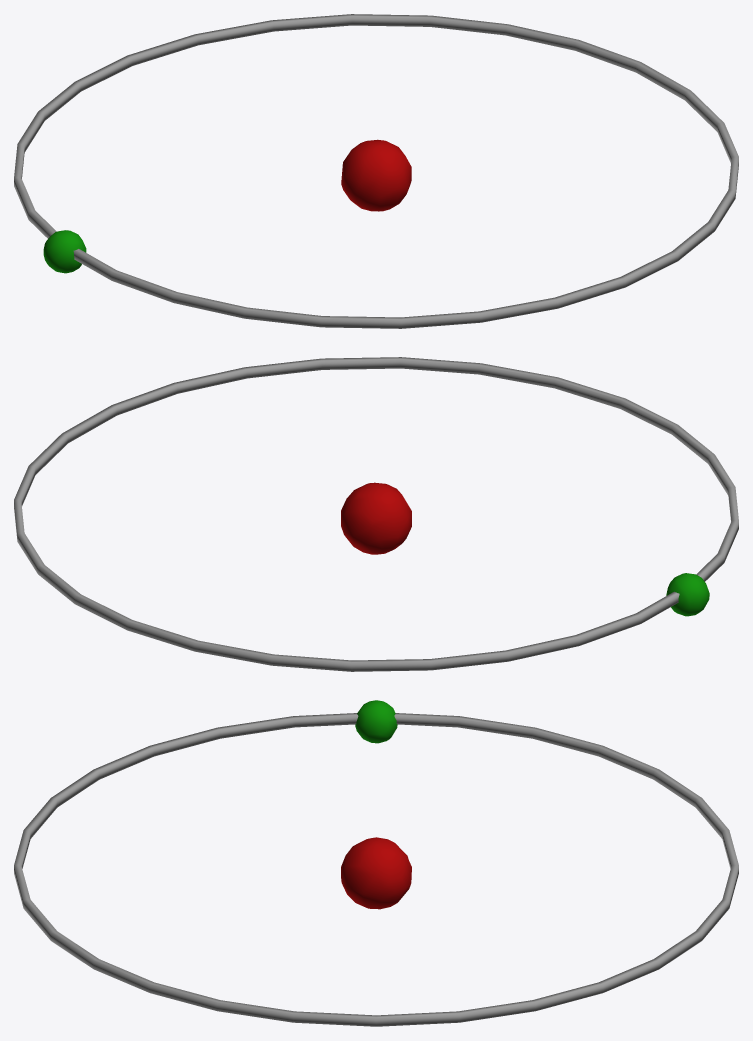
3 renders of one model, top to bottom at view 1: azimuth 30°, elevation 25°; view 2: azimuth 150°, elevation 25°; view 3: azimuth 270°, elevation 25°, orthographic.
Visible parts, largest first — view 1: Donut001, Sphere051, Sphere003; view 2: Donut001, Sphere051, Sphere003; view 3: Donut001, Sphere051, Sphere003.
Part boxes in pixels (<box>): Donut001: <box>14,14,738,328</box>; Sphere051: <box>341,139,411,211</box>; Sphere003: <box>43,230,86,273</box>; Donut001: <box>14,357,738,671</box>; Sphere051: <box>341,482,411,554</box>; Sphere003: <box>666,573,709,616</box>; Donut001: <box>14,713,738,1026</box>; Sphere051: <box>341,837,411,909</box>; Sphere003: <box>355,700,397,743</box>.
Size of the model in its own units: 40.35 by 3.86 by 39.37.
